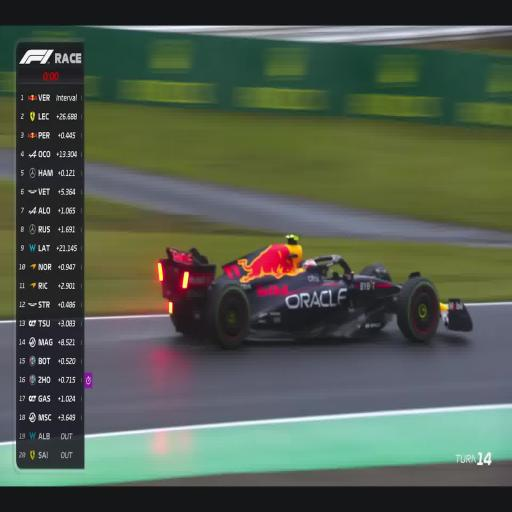f1_car: (158, 235, 472, 348)
